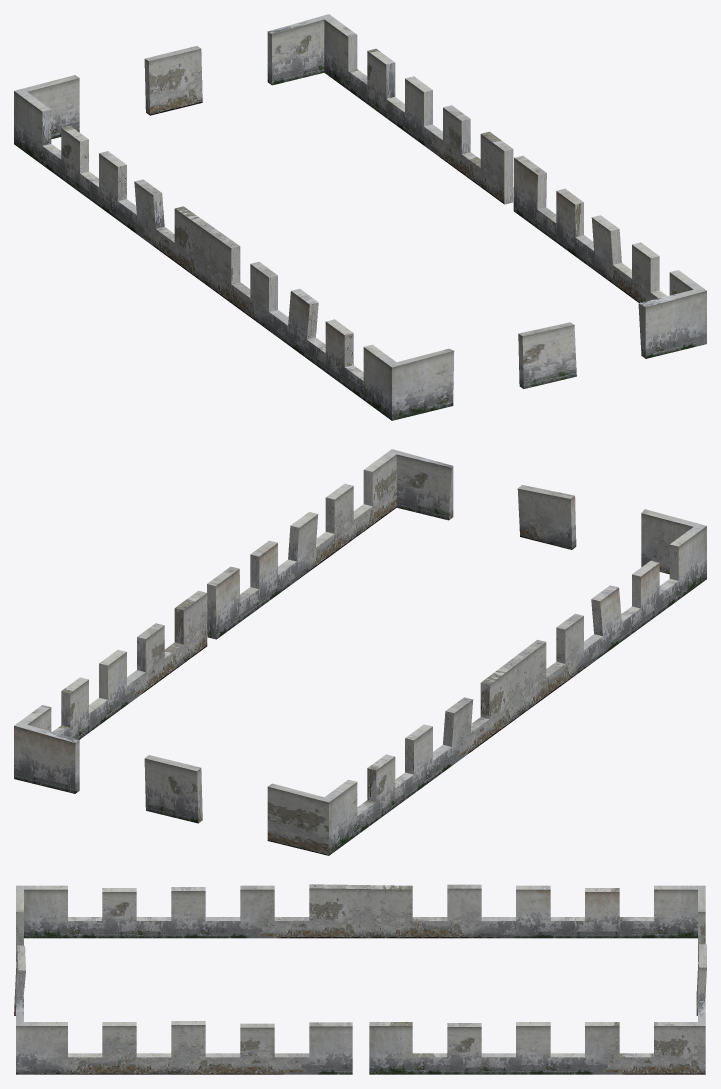
The model's file is r402_ravnec_angar4_ruina.FBX.
The picture shows the model from 3 angles, top to bottom: view 1: azimuth 30°, elevation 25°; view 2: azimuth 150°, elevation 25°; view 3: azimuth 270°, elevation 25°; orthographic projection. The views are drawn at different scales.
Visible parts, largest first — view 1: r402_ravnec_angar4_ruina; view 2: r402_ravnec_angar4_ruina; view 3: r402_ravnec_angar4_ruina.
Part boxes in pixels (x1,y1,x2,y2): r402_ravnec_angar4_ruina: (14,14,706,420); r402_ravnec_angar4_ruina: (14,449,706,855); r402_ravnec_angar4_ruina: (14,884,706,1074).
Bounding box in the file's own units: 1818 × 3759 × 302.
